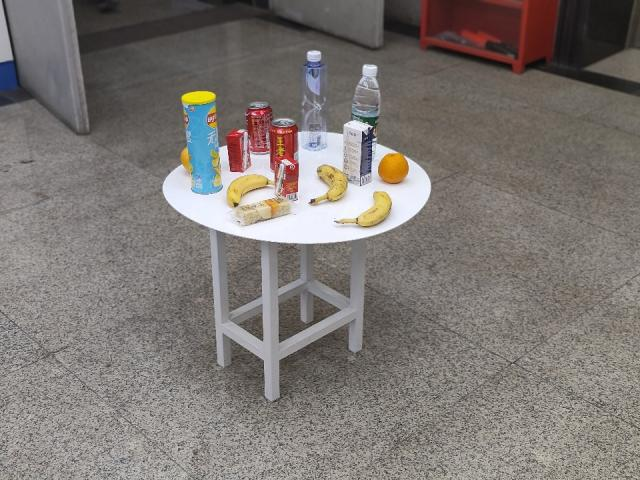Canned_drinks: (248, 103, 268, 153), (274, 120, 299, 160)
bottle: (301, 51, 329, 148), (354, 62, 383, 121)
cylinder: (184, 92, 221, 194)
drink_box: (343, 119, 372, 186), (228, 130, 251, 170), (278, 159, 298, 195)
